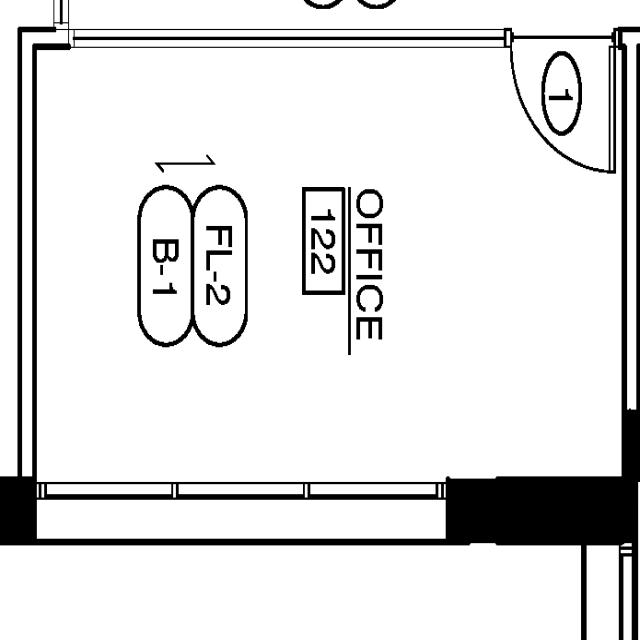Doors: (501, 27, 622, 180)
